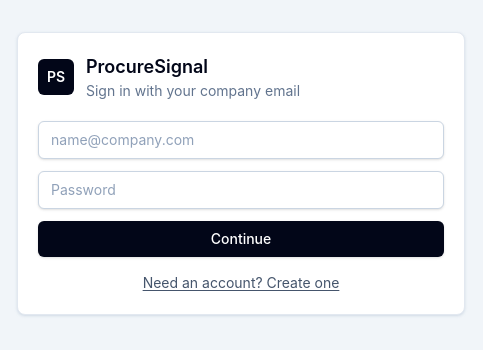
Test: AuthGate › reports bad credentials without revealing which part was wrong
In the field named "Company email": [241, 140] box [38,120,444,158], type "buyer@example.com"
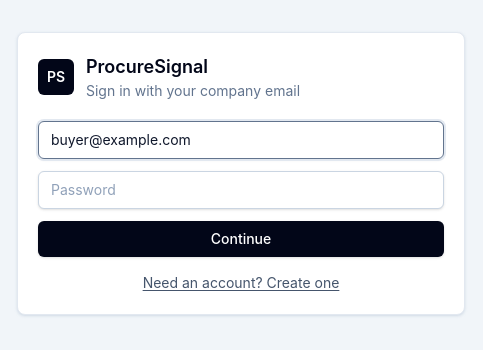
In the password field labelled "Password": [241, 190] box [38,170,444,208], type "wrong-password-here"
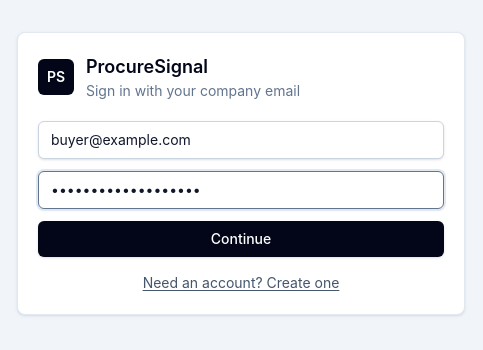
Click the button "Continue": [241, 238] box [38,220,444,256]
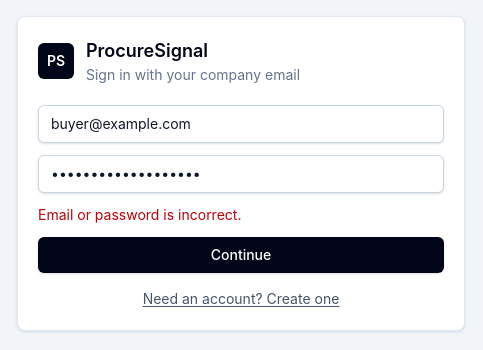
Now the message reads "Email or password is incorrect.", box [38,206,241,222]
